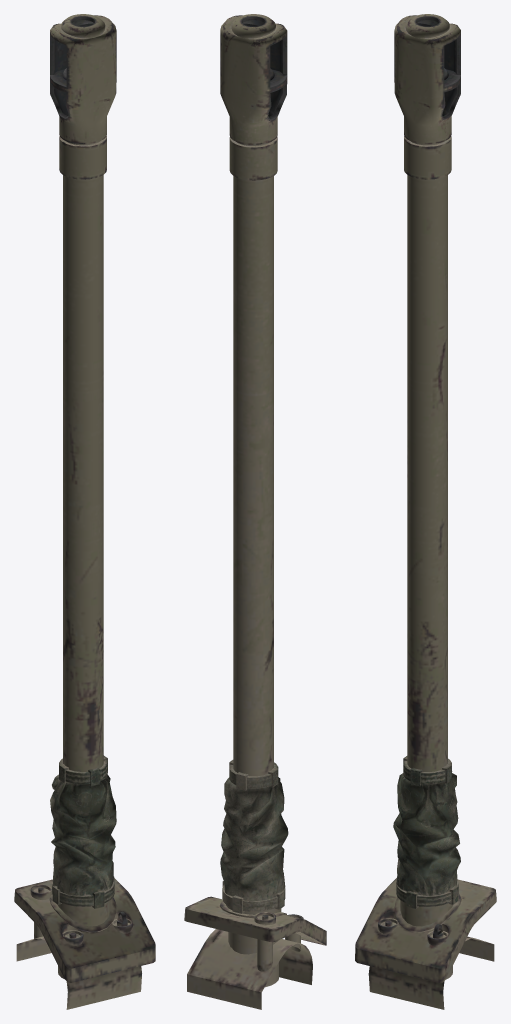
File: Gun_01.glb
The picture shows the model from 3 angles, left to right: view 1: azimuth 30°, elevation 25°; view 2: azimuth 150°, elevation 25°; view 3: azimuth 330°, elevation 25°; orthographic projection.
Visible parts, largest first — view 1: set_0_group_0; view 2: set_0_group_0; view 3: set_0_group_0.
Boxes of the visible parts, x1=… form: set_0_group_0: x1=14, y1=14, x2=155, y2=1009; set_0_group_0: x1=184, y1=14, x2=326, y2=1009; set_0_group_0: x1=355, y1=14, x2=496, y2=1009.
Bounding box in the file's own units: 0.3642 × 3.72 × 0.4086.
Materials: 1 (1 with a texture image).
